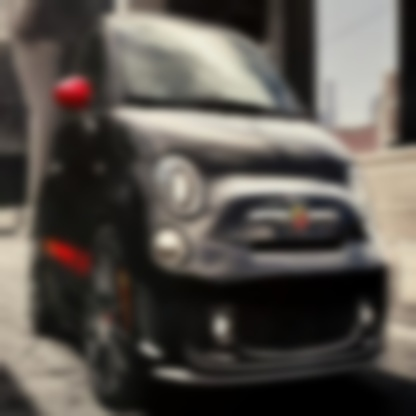Vehicle: (28, 10, 394, 415)
